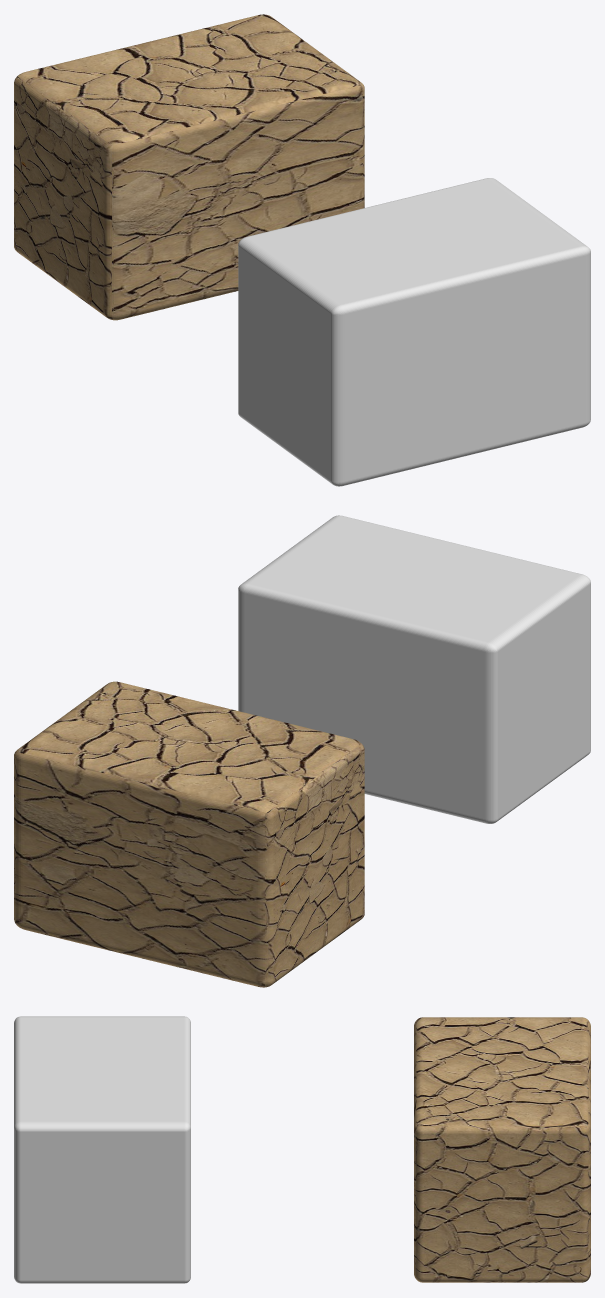
File: wall2.fbx
The picture shows the model from 3 angles, top to bottom: view 1: azimuth 30°, elevation 25°; view 2: azimuth 150°, elevation 25°; view 3: azimuth 270°, elevation 25°; orthographic projection. The views are drawn at different scales.
Parts seen in each view (by area): view 1: Cube, 立方体; view 2: 立方体, Cube; view 3: Cube, 立方体.
Part boxes in pixels (x1,y1,x2,y2): Cube: (238, 178, 590, 486); 立方体: (14, 14, 364, 320); 立方体: (14, 681, 364, 987); Cube: (238, 515, 590, 823); Cube: (14, 1016, 190, 1283); 立方体: (414, 1017, 590, 1282).
Size of the model in its own units: 300 by 200 by 651.
